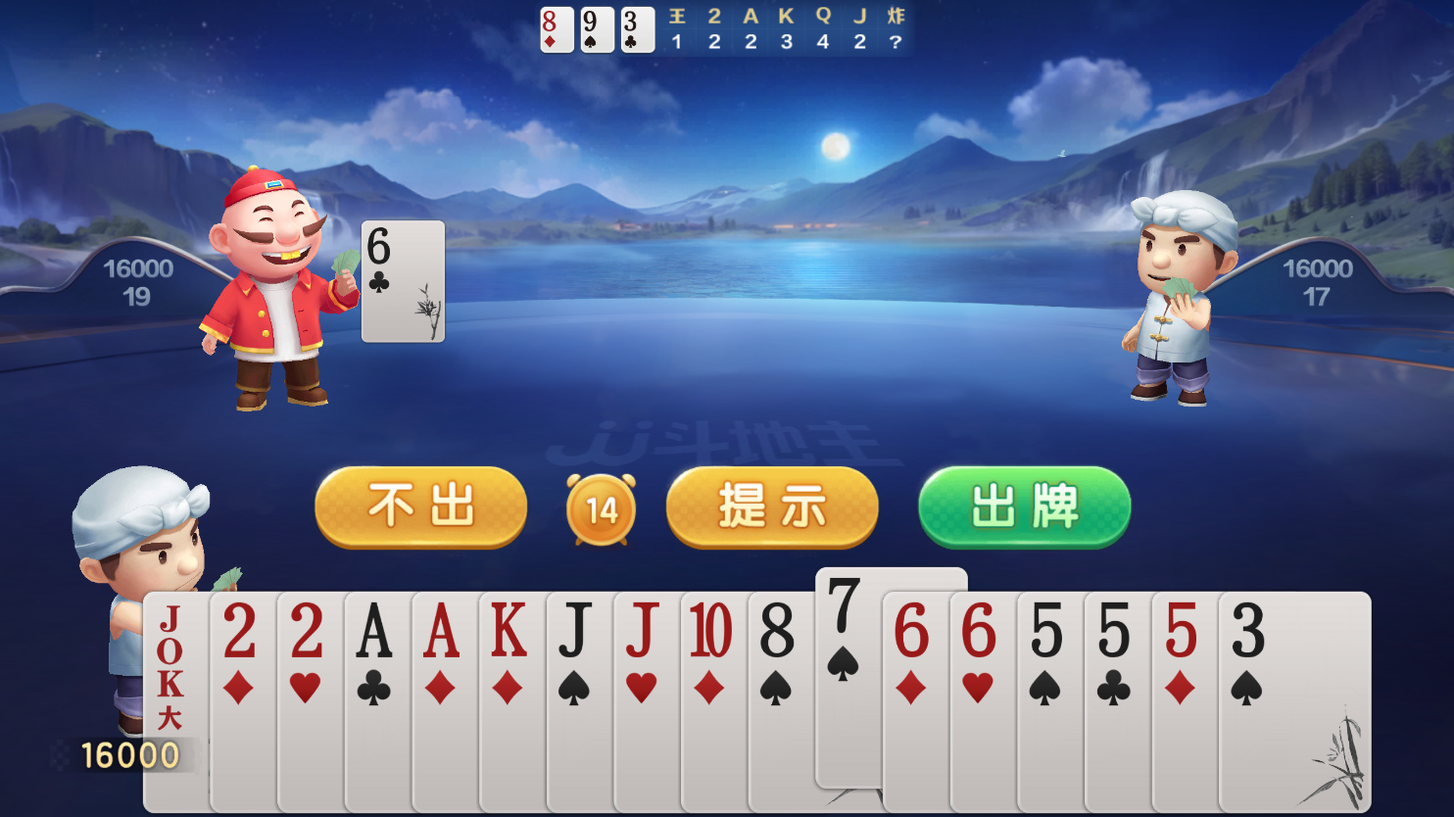A: (350, 597, 404, 666), (416, 598, 469, 665)
J: (616, 597, 668, 664), (550, 597, 599, 668)
JOKER: (145, 599, 197, 704)
K: (483, 596, 536, 665)
eight: (752, 599, 806, 668), (539, 6, 563, 36)
five: (1023, 598, 1074, 668), (1091, 598, 1142, 667), (1158, 598, 1208, 665)
nine: (579, 6, 603, 36)
seven: (818, 572, 870, 644)
six: (886, 598, 940, 666), (954, 599, 1006, 665), (362, 222, 400, 271)
ten: (683, 598, 738, 665)
three: (1224, 599, 1276, 668), (619, 7, 643, 36)
two: (281, 599, 335, 665), (214, 600, 268, 666)
